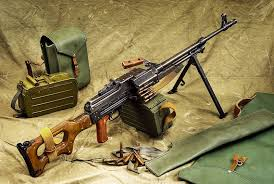gun: (17, 12, 237, 178)
